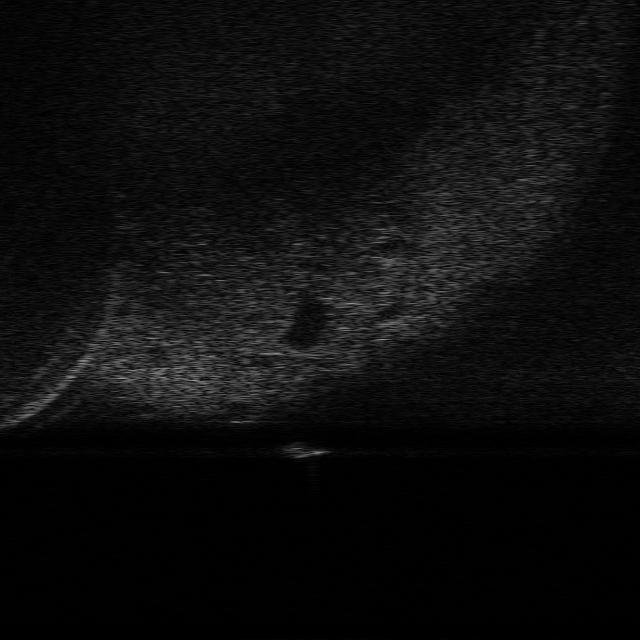cube: (283, 440, 335, 460)
